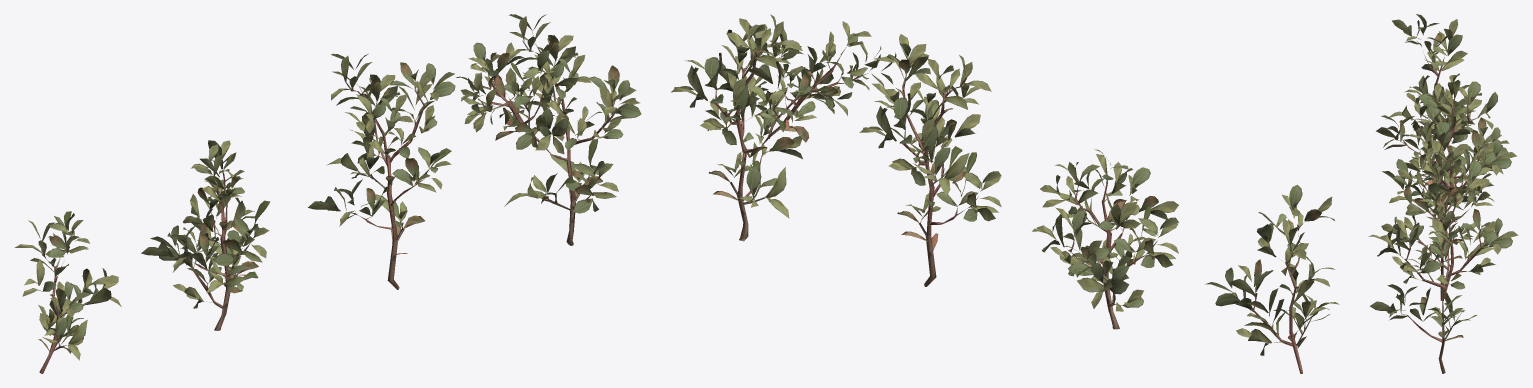
File: shrub_04.glb
The picture shows the model from 3 angles, left to right: view 1: azimuth 30°, elevation 25°; view 2: azimuth 150°, elevation 25°; view 3: azimuth 270°, elevation 25°; orthographic projection. The views are drawn at different scales.
Parts seen in each view (by area): view 1: shrub_04; view 2: shrub_04; view 3: shrub_04.
Boxes of the visible parts, bbox=[...] form: shrub_04: bbox=[14, 14, 641, 373]; shrub_04: bbox=[671, 14, 1339, 373]; shrub_04: bbox=[1368, 14, 1518, 373].
Bounding box in the file's own units: 0.5837 × 0.2192 × 0.1461.
1 material, 1 textured.
